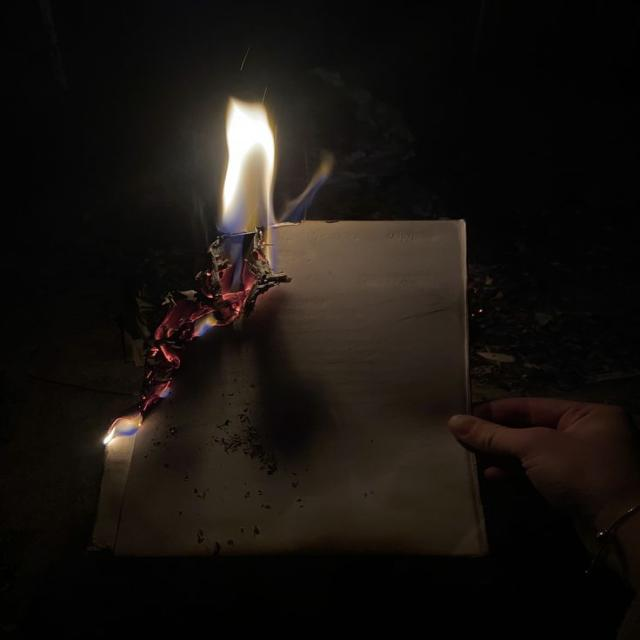fire: (216, 95, 276, 237)
